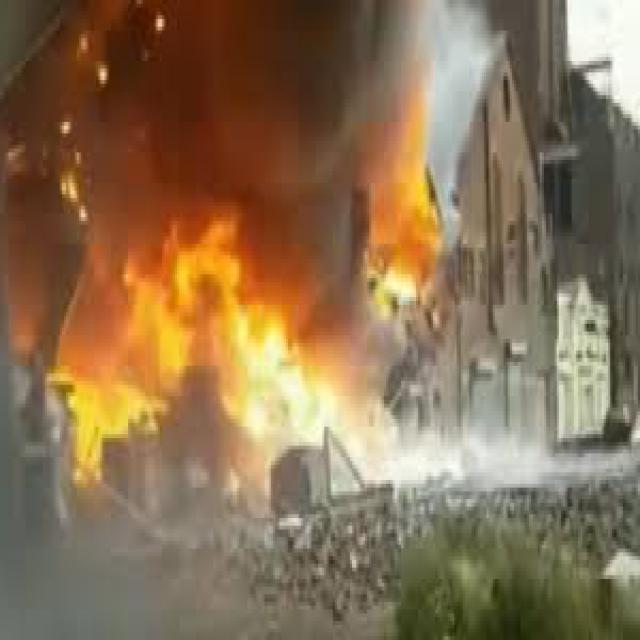Fire: (107, 219, 320, 418), (356, 158, 442, 304)
Smoke: (223, 2, 444, 136)
